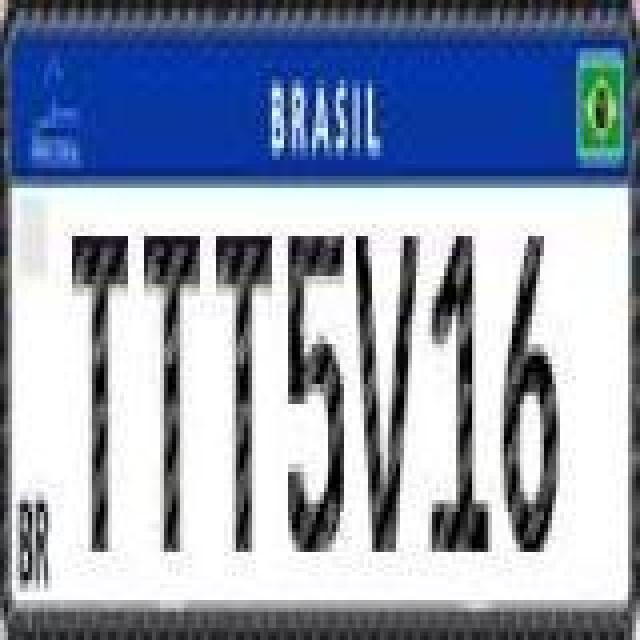1: (426, 230, 494, 554)
5: (286, 230, 346, 554)
6: (496, 224, 560, 560)
T: (212, 224, 276, 560), (70, 230, 130, 554), (142, 230, 202, 554)
V: (356, 226, 420, 550)
